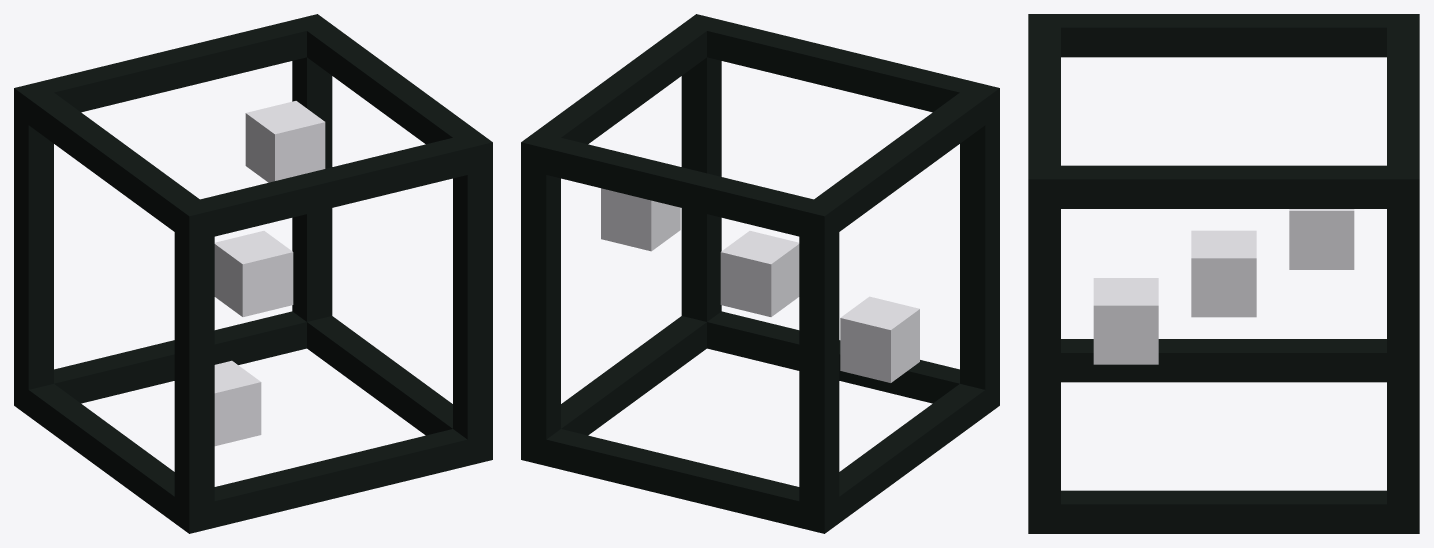
The model's file is 3d_point.obj.
The picture shows the model from 3 angles, left to right: view 1: azimuth 30°, elevation 25°; view 2: azimuth 150°, elevation 25°; view 3: azimuth 270°, elevation 25°; orthographic projection. The views are drawn at different scales.
Size of the model in its own units: 1.2 by 1.2 by 1.2.
Materials: 1 (1 with a texture image).
